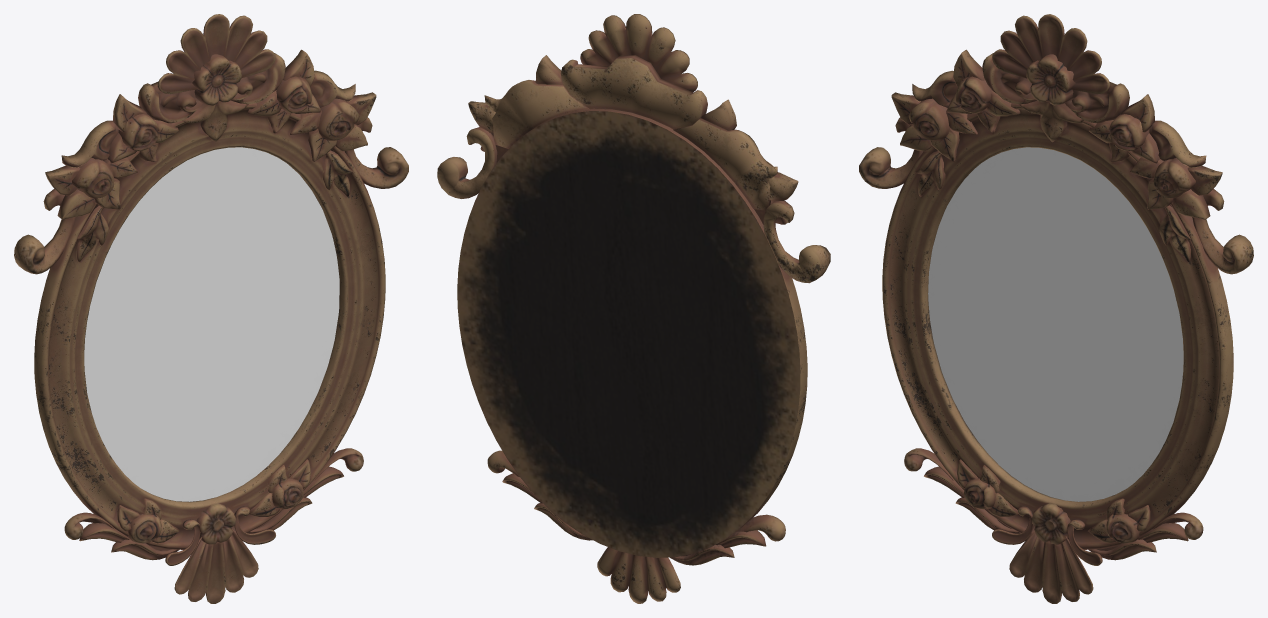
Rendered from mirror.glb.
The picture shows the model from 3 angles, left to right: view 1: azimuth 30°, elevation 25°; view 2: azimuth 150°, elevation 25°; view 3: azimuth 330°, elevation 25°; orthographic projection.
Parts seen in each view (by area): view 1: Glass_low, Frame_low, Fan_Top_low, Curve_Top_low, Fan_Bottom_low, Backplate_Top_01_low, Rose_Top_02_low, Backplate_Top_02_low, Rose_Top_01_low, Flower_Top_low, Leaves_Small_Top_low, Rose_Bottom_low (+17 smaller); view 2: Frame_low, Backplate_Top_02_low, Backplate_Top_01_low, Curve_Top_low, Fan_Top_low, Fan_Bottom_low, Leaf_Top_04_low, Curve_Bottom_04_low, Leaf_Top_08_low, Curve_Bottom_01_low, Curve_Bottom_02_low; view 3: Glass_low, Frame_low, Fan_Top_low, Curve_Top_low, Fan_Bottom_low, Backplate_Top_01_low, Rose_Top_02_low, Backplate_Top_02_low, Rose_Top_01_low, Flower_Top_low, Leaves_Small_Top_low, Rose_Bottom_low (+17 smaller).
Boxes of the visible parts, x1,y1,x2,y2 form: Glass_low: (84, 147, 339, 501); Frame_low: (34, 103, 385, 549); Fan_Top_low: (157, 14, 275, 94); Curve_Top_low: (14, 117, 408, 274); Fan_Bottom_low: (174, 528, 258, 603); Backplate_Top_01_low: (138, 53, 285, 123); Rose_Top_02_low: (72, 98, 359, 198); Backplate_Top_02_low: (61, 70, 355, 167); Rose_Top_01_low: (118, 76, 312, 151); Flower_Top_low: (192, 54, 241, 105); Leaves_Small_Top_low: (77, 150, 352, 262); Rose_Bottom_low: (128, 478, 303, 543); Frame_low: (457, 108, 807, 557); Backplate_Top_02_low: (484, 80, 777, 210); Backplate_Top_01_low: (560, 55, 707, 129); Curve_Top_low: (437, 127, 830, 283); Fan_Top_low: (580, 14, 697, 91); Fan_Bottom_low: (597, 547, 680, 603); Leaf_Top_04_low: (535, 55, 736, 130); Curve_Bottom_04_low: (487, 450, 785, 541); Leaf_Top_08_low: (468, 101, 798, 201); Curve_Bottom_01_low: (534, 503, 734, 565); Curve_Bottom_02_low: (502, 473, 766, 548); Glass_low: (928, 147, 1183, 501); Frame_low: (882, 103, 1233, 549); Fan_Top_low: (992, 14, 1110, 94); Curve_Top_low: (859, 117, 1253, 274); Fan_Bottom_low: (1009, 530, 1093, 603); Backplate_Top_01_low: (982, 53, 1129, 123); Rose_Top_02_low: (908, 98, 1195, 198); Backplate_Top_02_low: (912, 70, 1206, 167); Rose_Top_01_low: (955, 76, 1149, 151); Flower_Top_low: (1026, 54, 1075, 105); Leaves_Small_Top_low: (915, 151, 1190, 262); Rose_Bottom_low: (964, 478, 1139, 543).
Bounding box in the file's own units: 1.37 × 2 × 0.1115.
2 materials, 2 textured.
